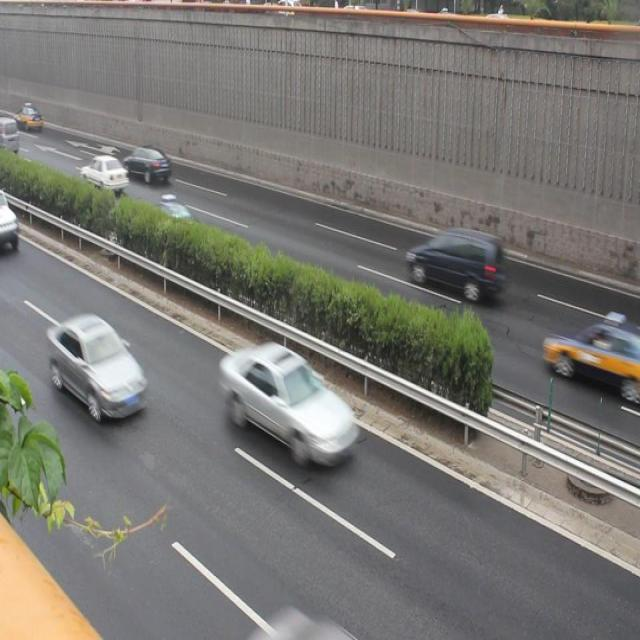car: (221, 338, 357, 464), (48, 316, 146, 418), (544, 314, 640, 396), (246, 604, 360, 640), (132, 198, 202, 252), (82, 154, 130, 194), (122, 145, 171, 183), (1, 191, 20, 255)
truck: (404, 224, 501, 302)
